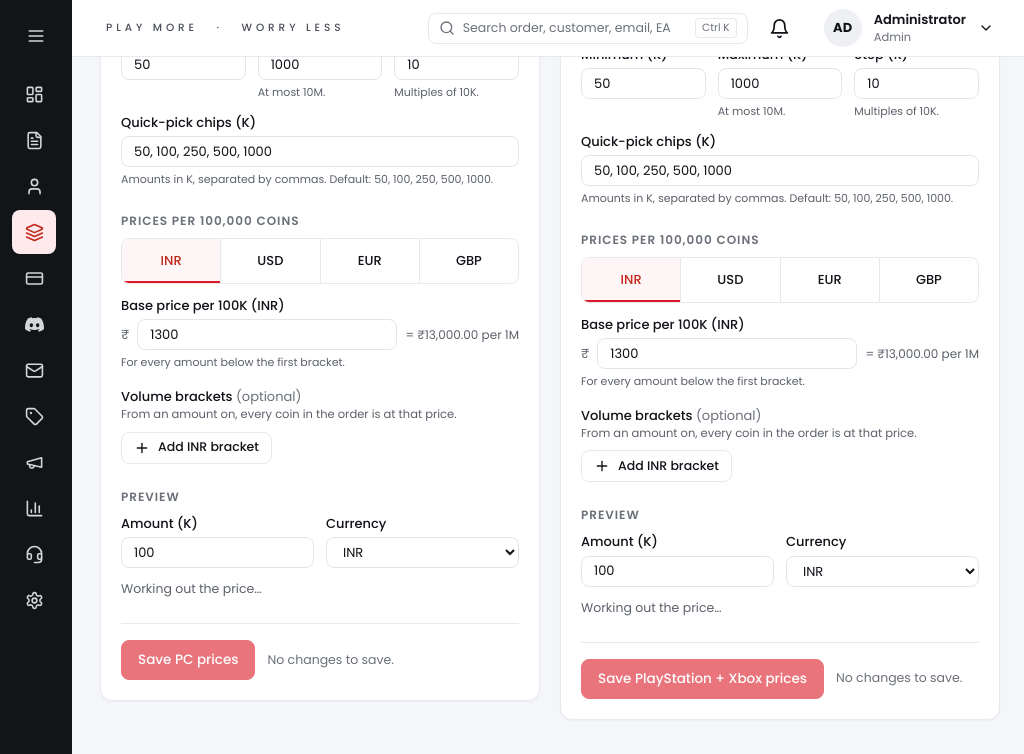
it: the preview calculator › an amount the slider does not stop on is said, not priced
(page scrolled)
Replace the text in the 1st field labelled "Amount (K)" with "55" at {"x": 218, "y": 553}, box [121,537,314,568]
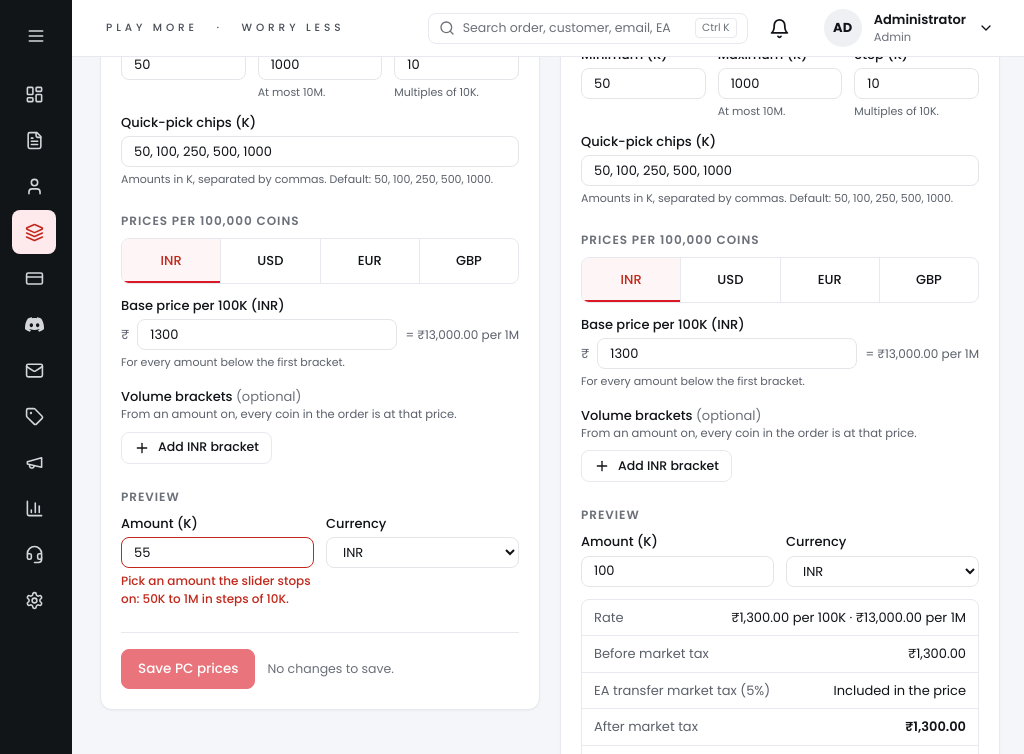
Result: the text "Pick an amount the slider stops on: 50K to 1M in steps of 10K." is shown at [121,572,314,608]
